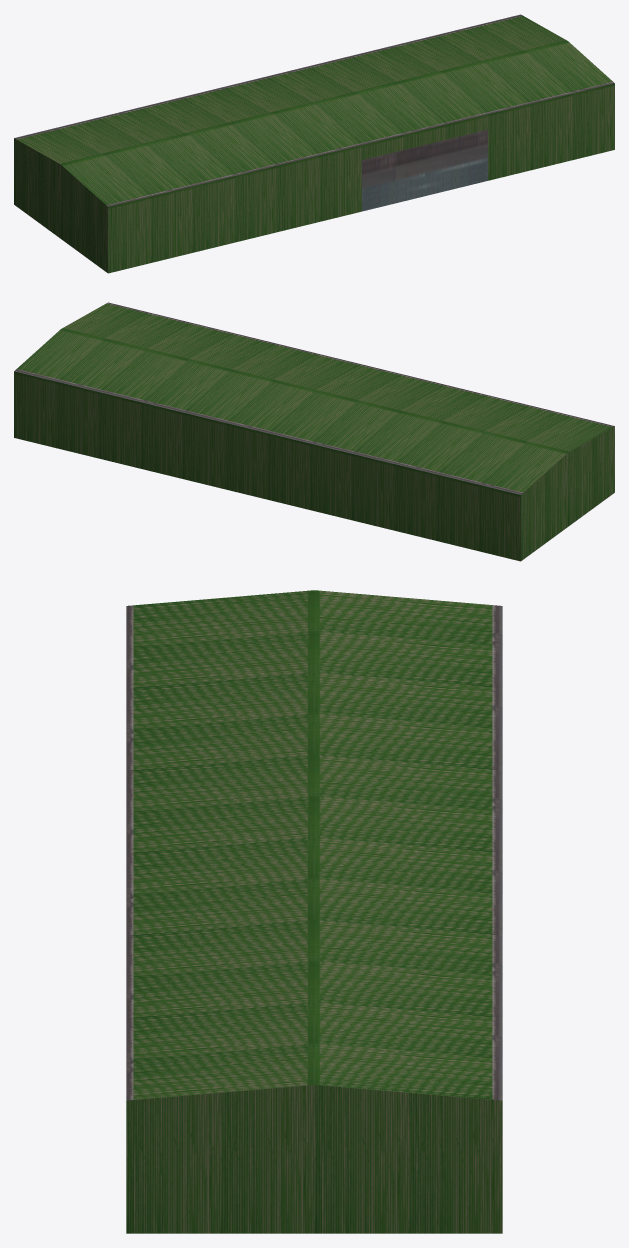
The model's file is hangar-side-door-56x18x7-cbj_LOD02.gltf.
3 renders of one model, top to bottom at view 1: azimuth 30°, elevation 25°; view 2: azimuth 150°, elevation 25°; view 3: azimuth 270°, elevation 25°, orthographic. The views are drawn at different scales.
Visible parts, largest first — view 1: sketchup02; view 2: sketchup02; view 3: sketchup02.
Part boxes in pixels (x1,y1,x2,y2): sketchup02: [14, 14, 614, 273]; sketchup02: [14, 302, 614, 561]; sketchup02: [126, 590, 502, 1233].
Size of the model in its own units: 55.98 by 7.86 by 18.
